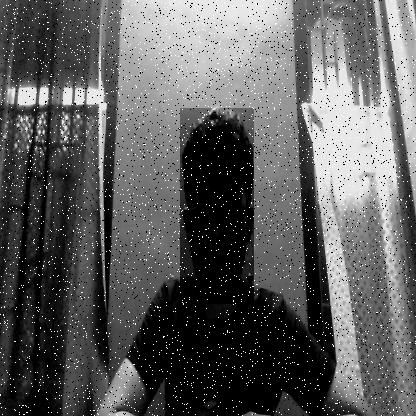Normal: (180, 108, 254, 304)
